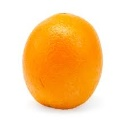orange: (22, 7, 105, 110)
